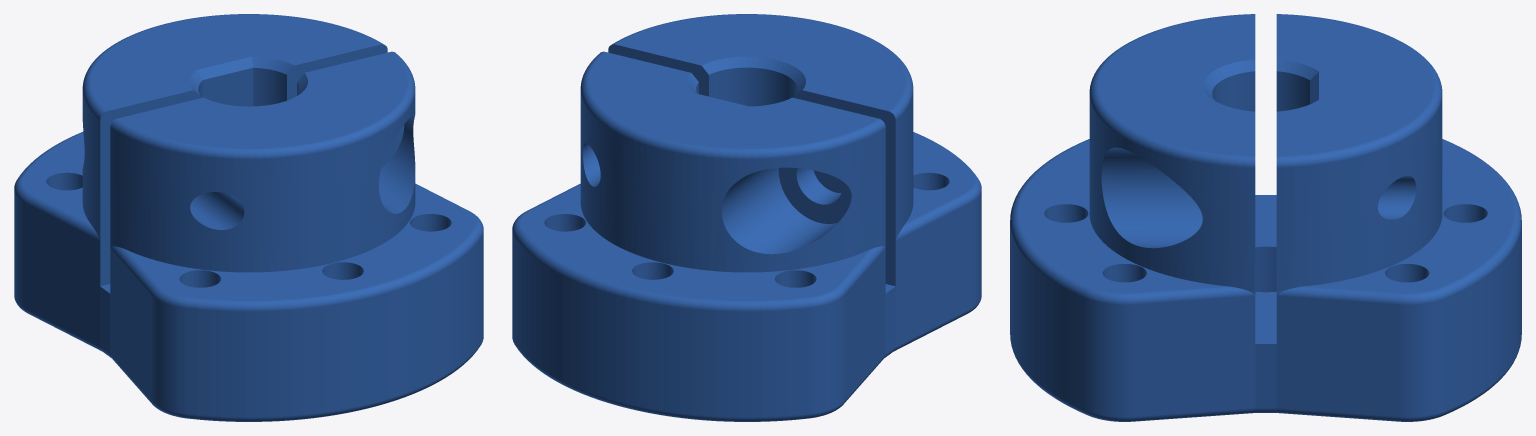
File: 76280 - clamping shaft hub v2.dae
The picture shows the model from 3 angles, left to right: view 1: azimuth 30°, elevation 25°; view 2: azimuth 150°, elevation 25°; view 3: azimuth 270°, elevation 25°; orthographic projection. The views are drawn at different scales.
Parts seen in each view (by area): view 1: node_cc09cb29_29fc_4c4e_b04a_7523ae1a66ef_mesh0; view 2: node_cc09cb29_29fc_4c4e_b04a_7523ae1a66ef_mesh0; view 3: node_cc09cb29_29fc_4c4e_b04a_7523ae1a66ef_mesh0.
Boxes of the visible parts, <box> form: node_cc09cb29_29fc_4c4e_b04a_7523ae1a66ef_mesh0: <box>14,14,483,421</box>; node_cc09cb29_29fc_4c4e_b04a_7523ae1a66ef_mesh0: <box>512,14,981,421</box>; node_cc09cb29_29fc_4c4e_b04a_7523ae1a66ef_mesh0: <box>1010,14,1521,421</box>.
Size of the model in its own units: 22.37 by 29 by 16.
